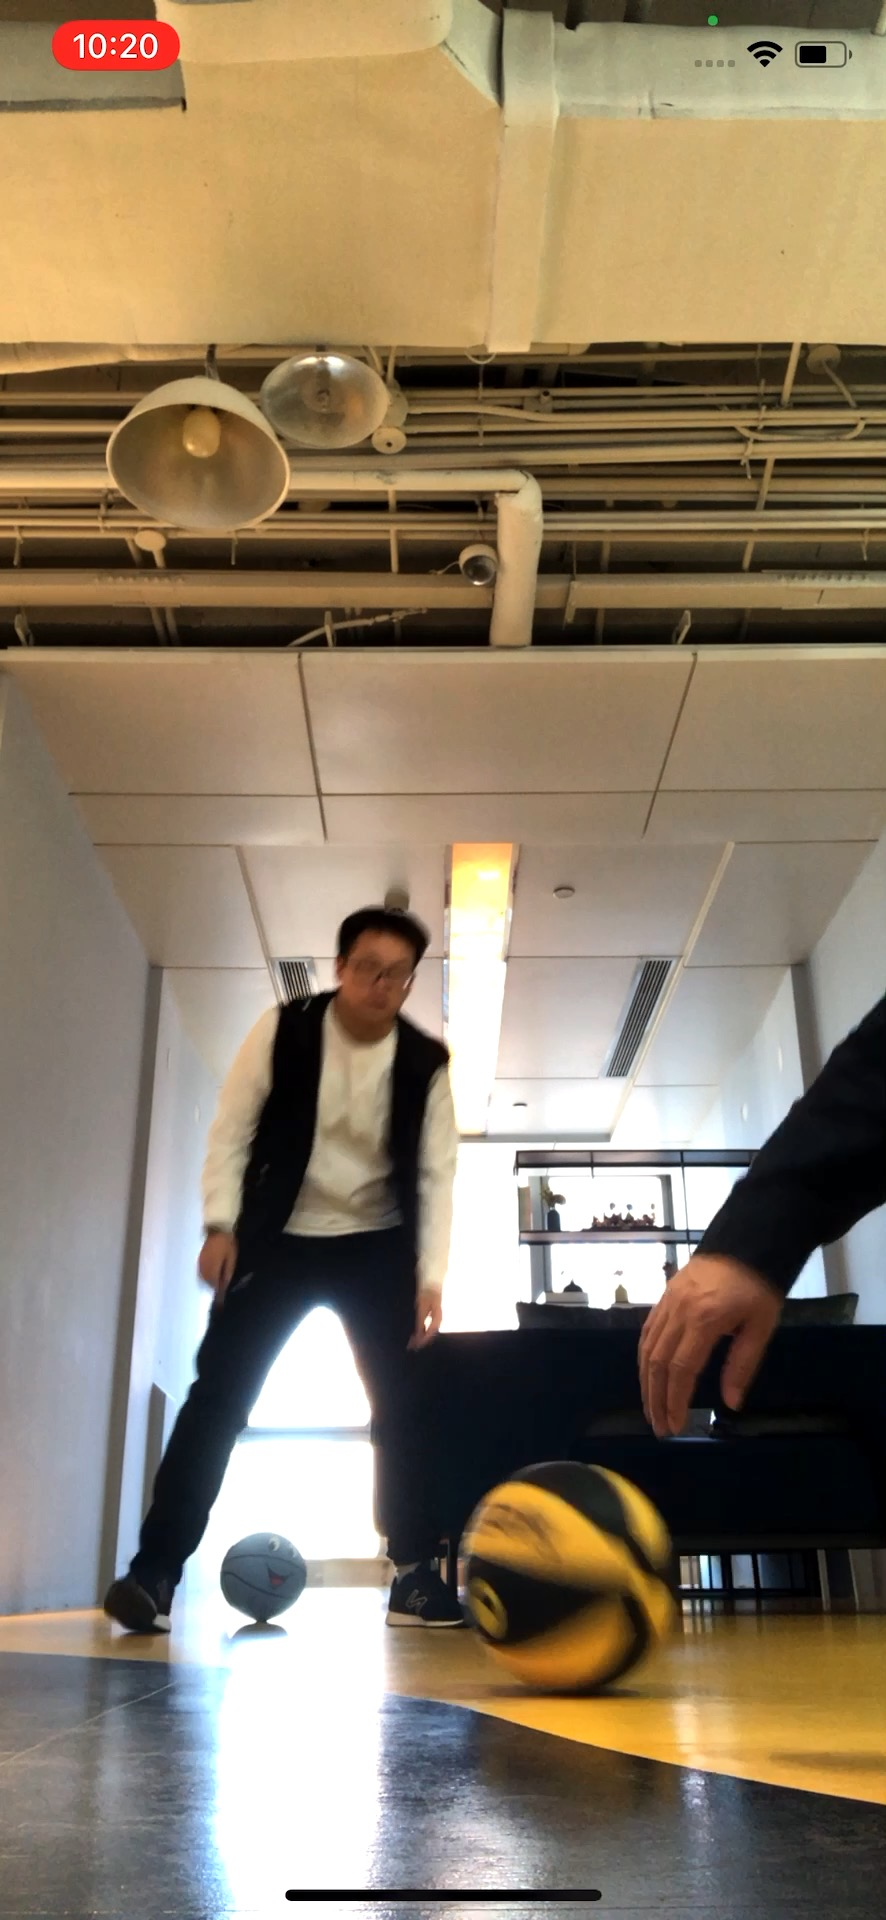ball: (453, 1463, 680, 1689), (223, 1529, 308, 1627)
